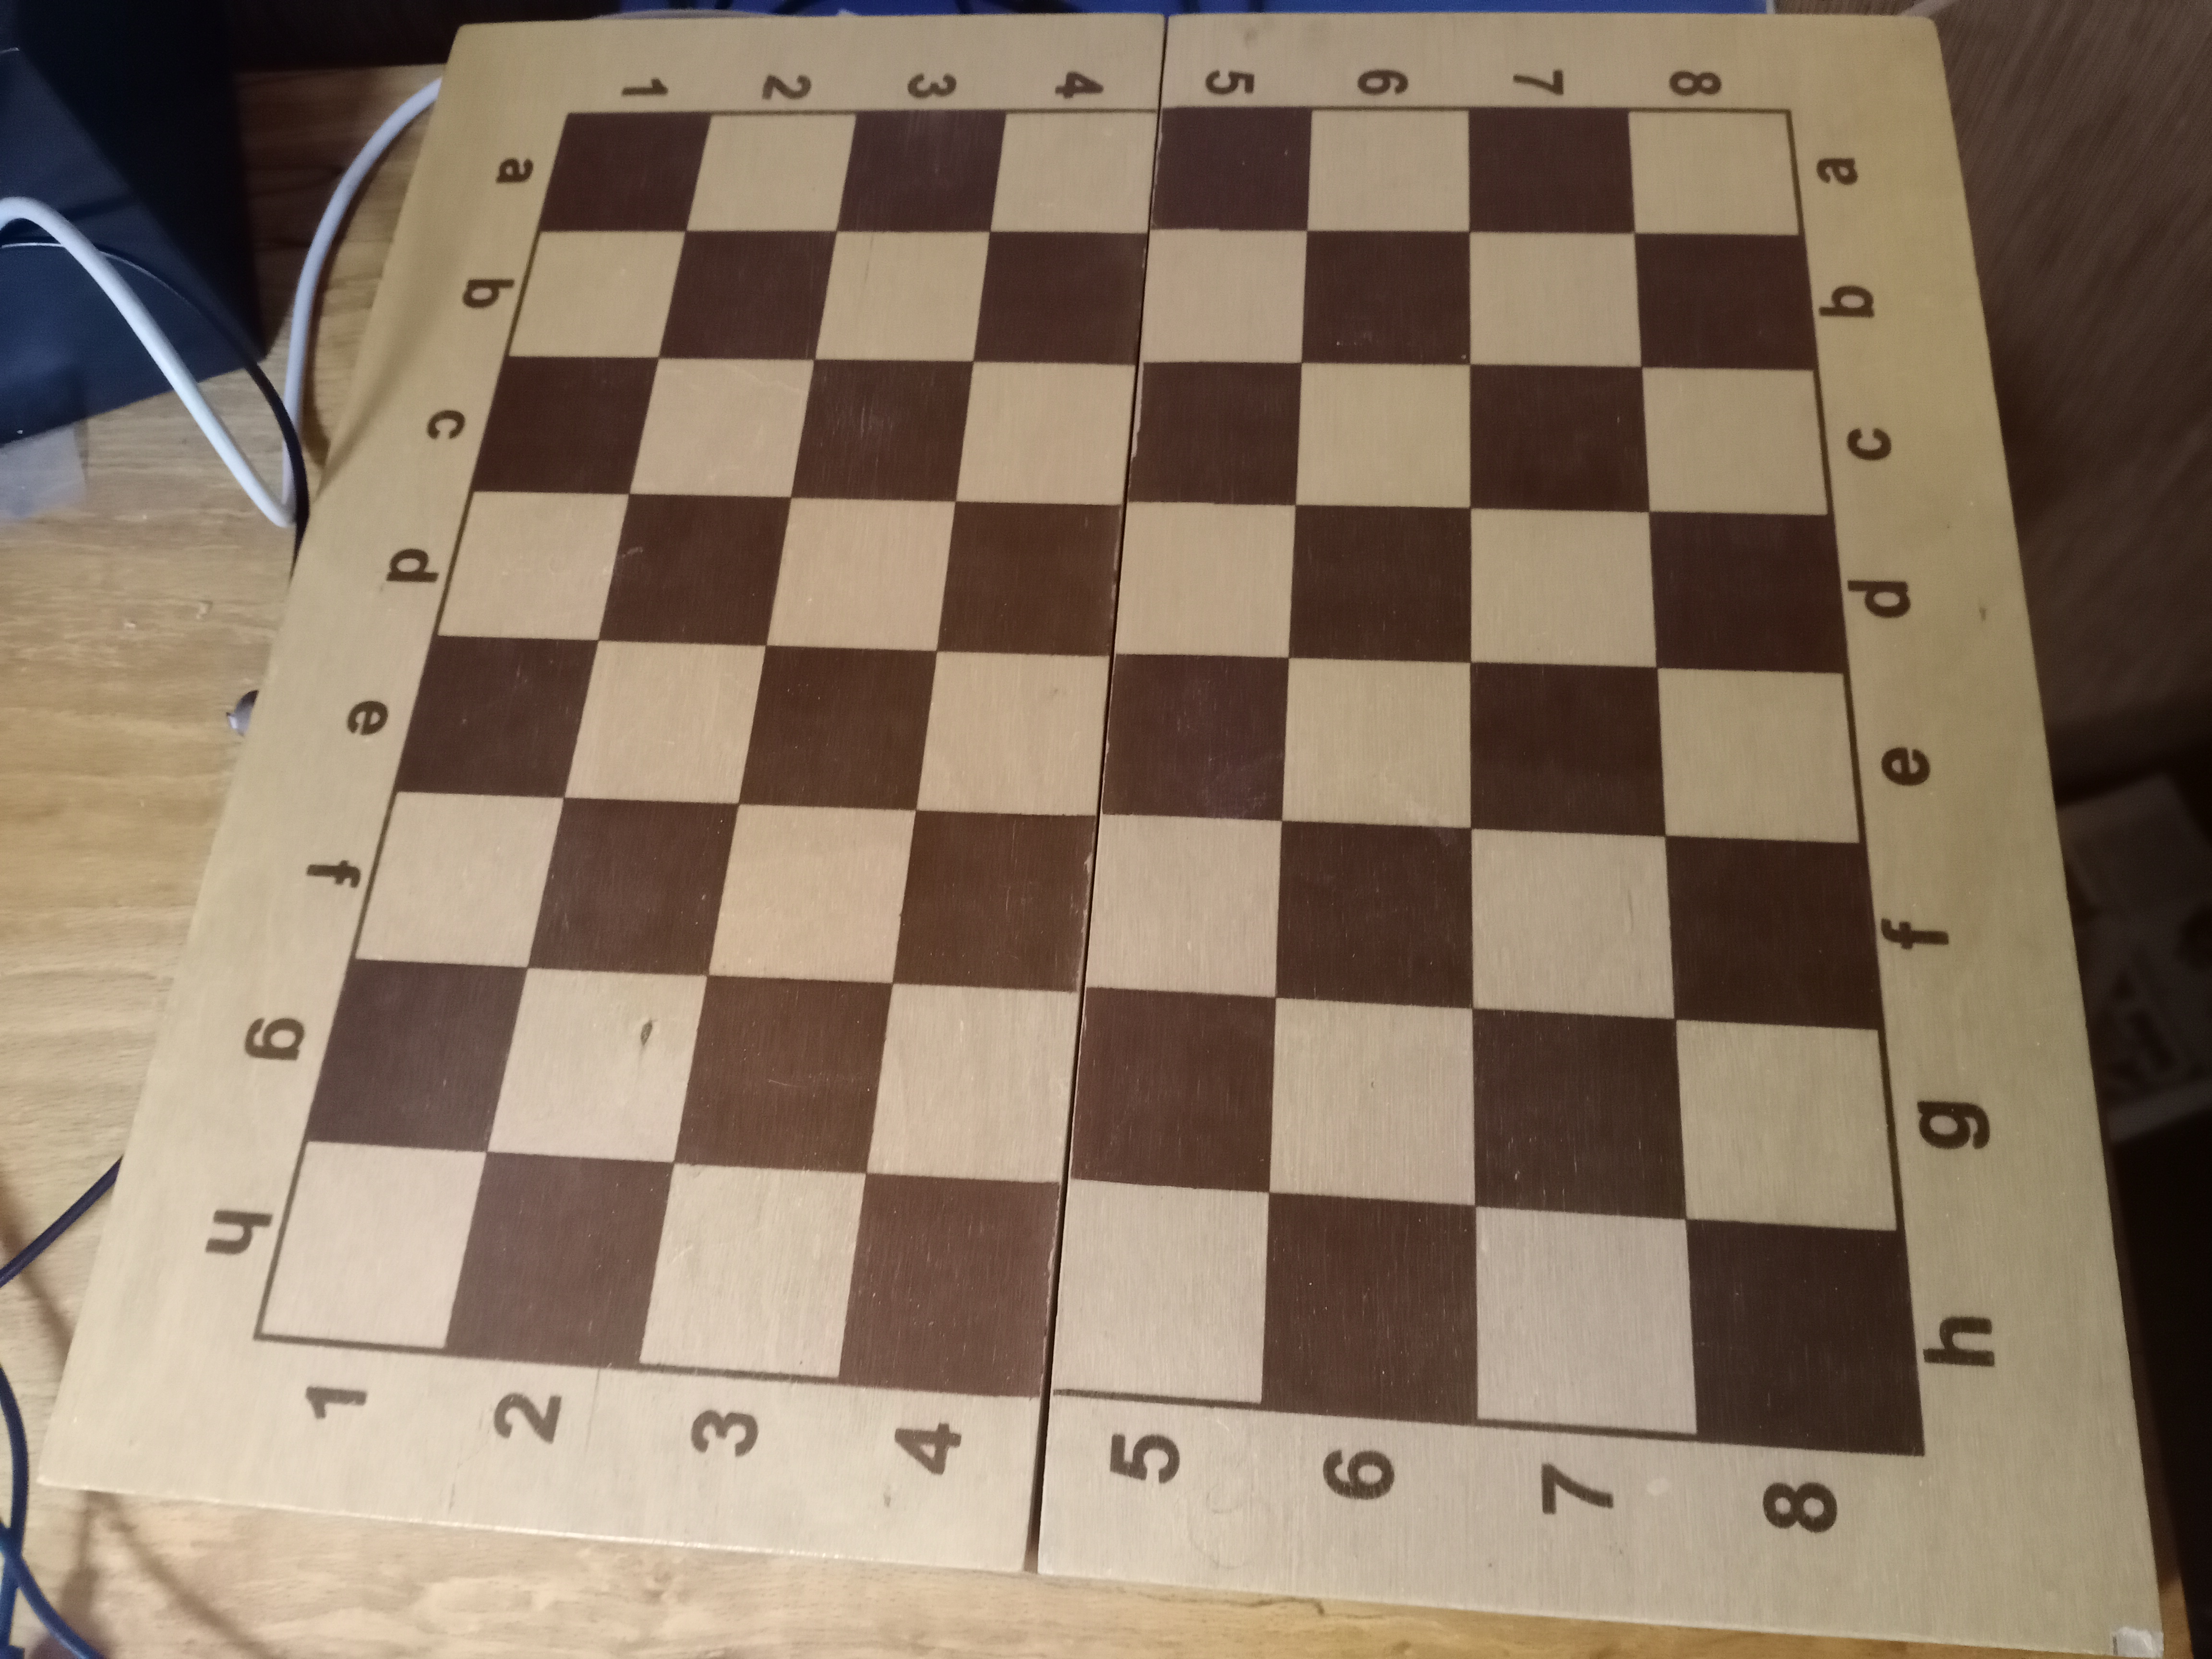Empty_White_Cell: (1475, 1206, 1696, 1438), (639, 1162, 866, 1378), (1052, 1176, 1268, 1403), (1676, 1019, 1897, 1234), (260, 1141, 486, 1349), (489, 969, 707, 1166), (1270, 997, 1475, 1202), (864, 985, 1078, 1180), (1474, 826, 1672, 1016), (707, 803, 916, 983), (355, 791, 564, 967), (1083, 814, 1280, 997), (1656, 669, 1860, 842), (1282, 655, 1474, 828), (564, 641, 766, 802), (920, 652, 1109, 819), (1470, 509, 1656, 667), (439, 488, 629, 641), (1111, 500, 1296, 657), (766, 498, 956, 650), (1642, 366, 1831, 514), (954, 361, 1136, 507), (1294, 364, 1470, 509), (631, 357, 813, 495), (1470, 232, 1641, 368), (813, 230, 989, 361), (1139, 230, 1308, 364), (505, 230, 683, 357), (1627, 112, 1799, 237), (683, 112, 855, 232), (988, 112, 1160, 232), (1308, 108, 1470, 230)
